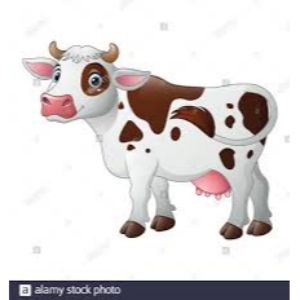cow: (19, 40, 281, 243)
